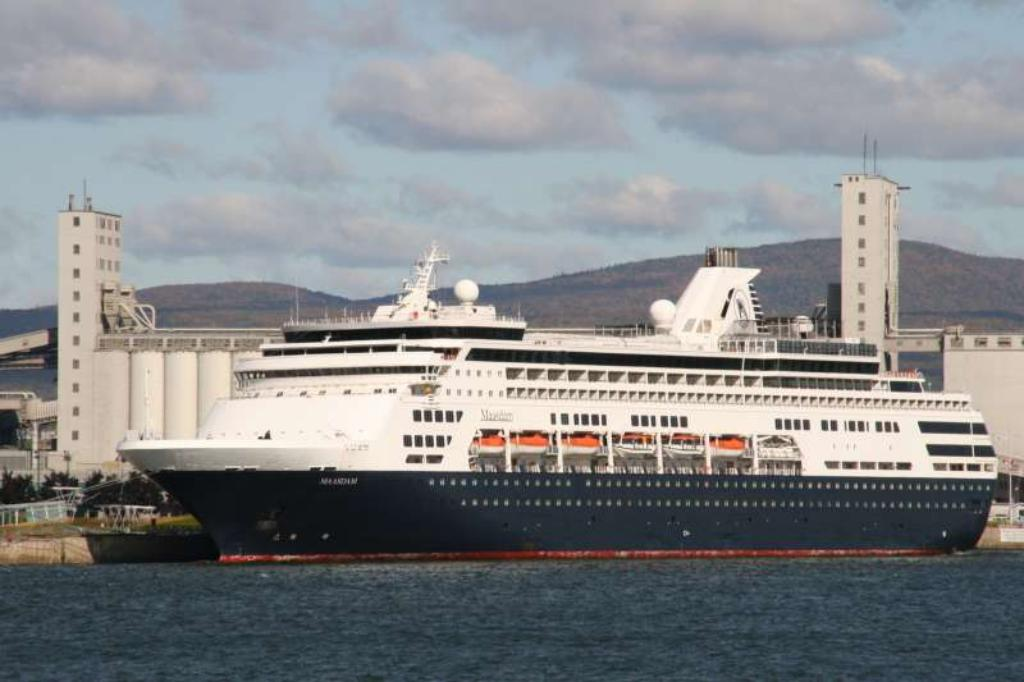PassengerShip: (113, 235, 1005, 557)
